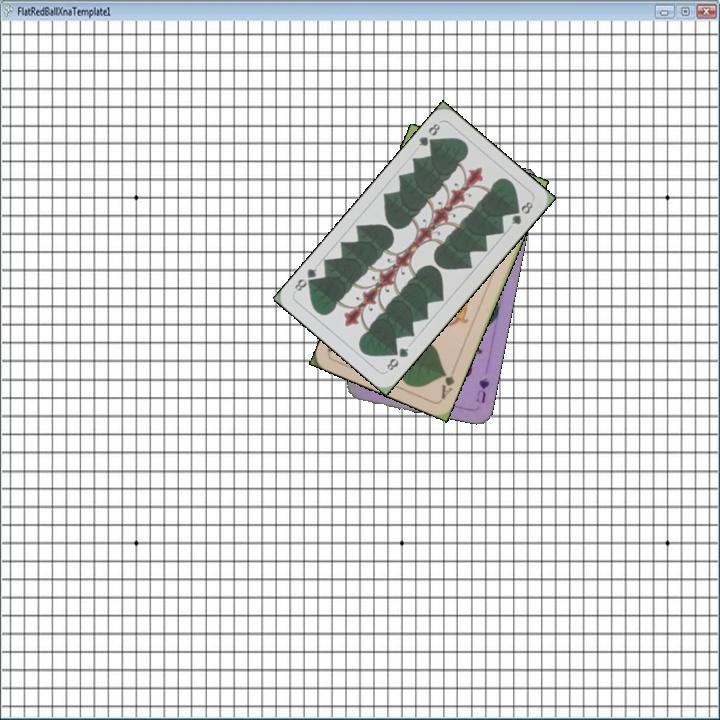G8: (382, 343, 411, 374), (415, 119, 443, 151)
GA: (437, 363, 458, 402)
GU: (472, 373, 492, 406)
